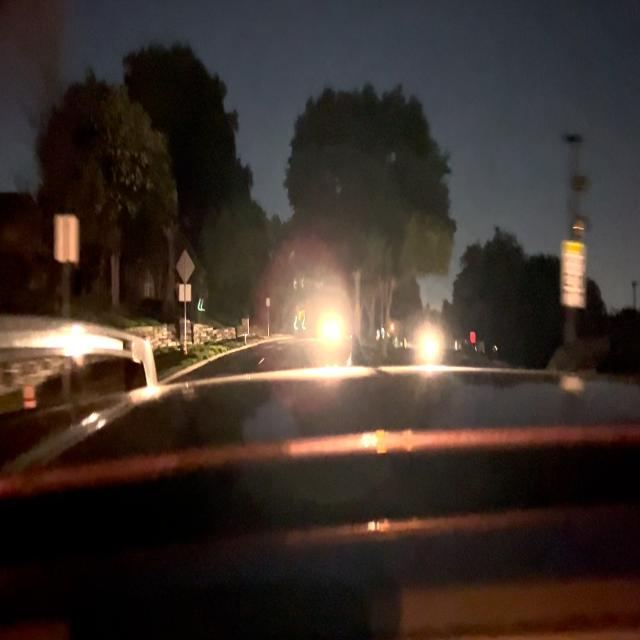back-of-sign: (54, 214, 79, 262), (176, 251, 196, 303)
